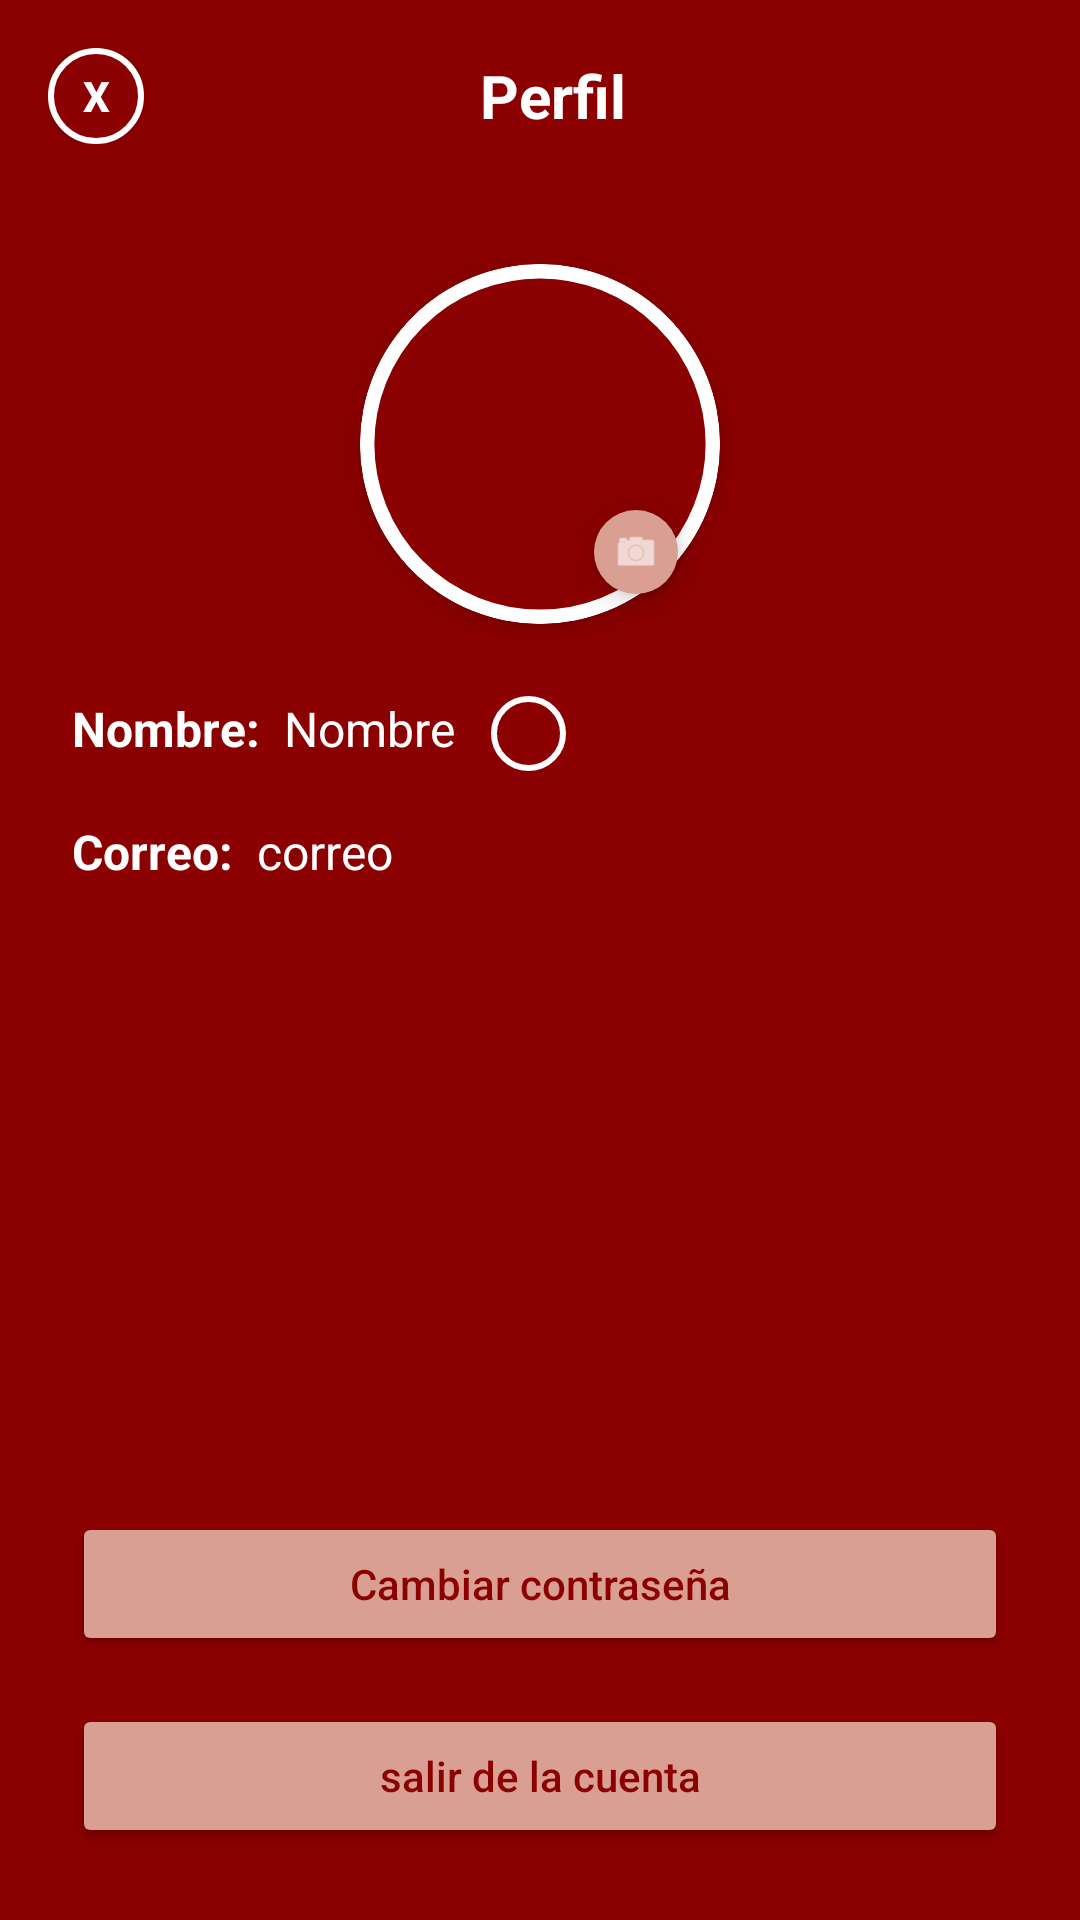

Icon click points for this 1080×1920 phone screenshot, format point (x, y):
Editar foto de perfil: point (636, 551)
